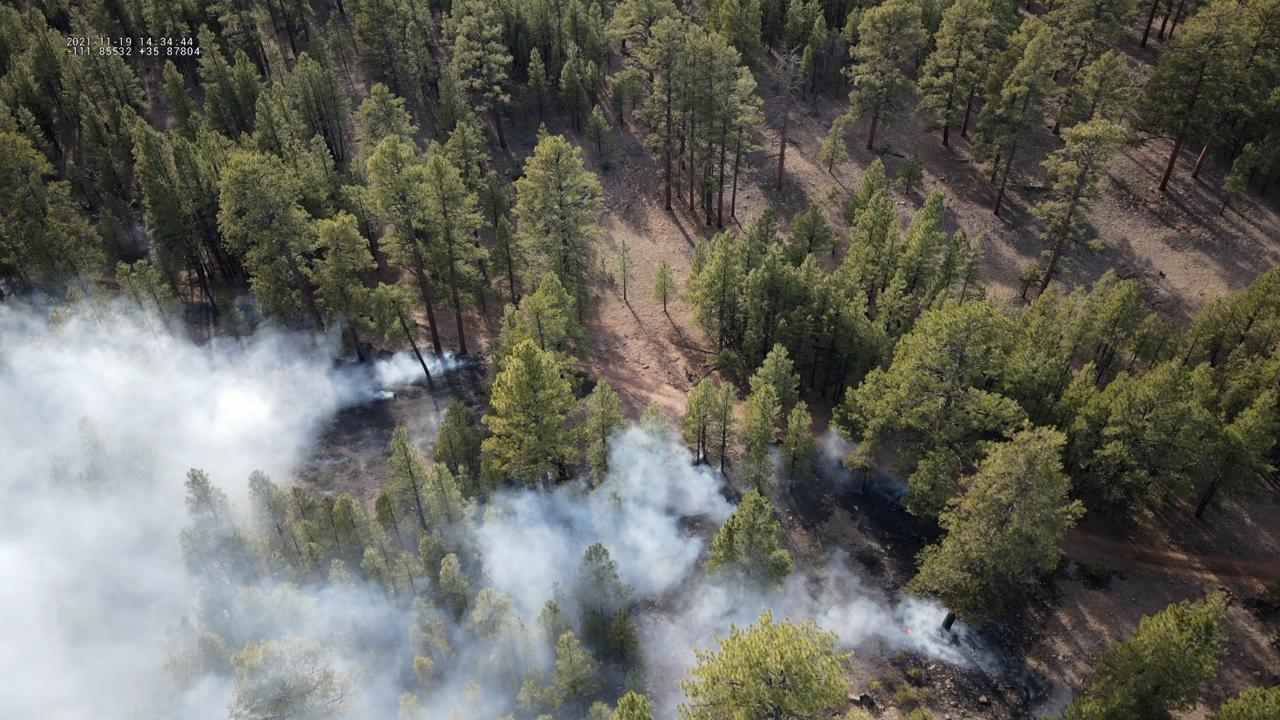fire: (905, 627, 912, 636)
smoke: (0, 287, 740, 720), (766, 549, 993, 672), (815, 426, 865, 489), (872, 468, 909, 510), (767, 447, 785, 490)
